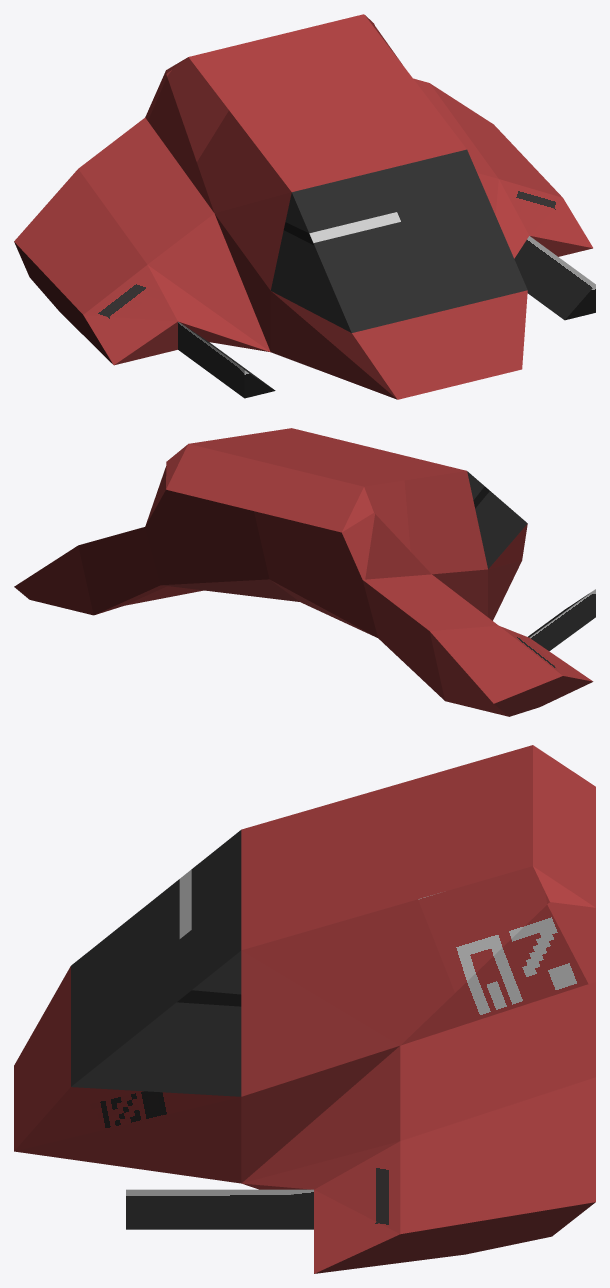
Rendered from basic_enemy.glb.
3 views of the same model, one above another, from view 1: azimuth 30°, elevation 25°; view 2: azimuth 150°, elevation 25°; view 3: azimuth 270°, elevation 25° (orthographic). The views are drawn at different scales.
Parts seen in each view (by area): view 1: Cube; view 2: Cube; view 3: Cube.
Boxes of the visible parts, box(x1,y1,x2,y2) form: Cube: box(14, 14, 595, 399); Cube: box(14, 428, 595, 716); Cube: box(14, 745, 595, 1273).
Bounding box in the file's own units: 70.62 × 30.18 × 52.53.
Materials: 1 (1 with a texture image).
